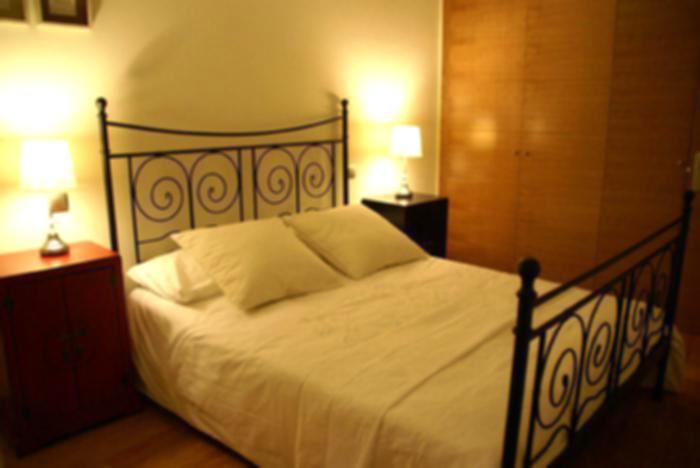Armario: (444, 4, 599, 283), (603, 7, 697, 303)
